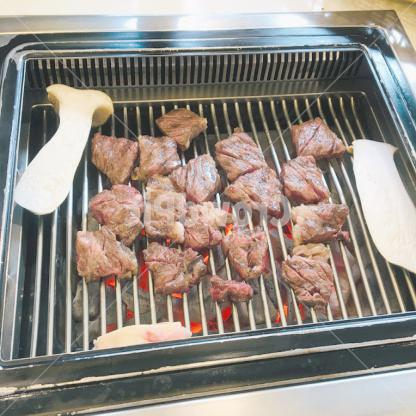Carne: (122, 245, 197, 297), (279, 240, 335, 303), (276, 157, 330, 209), (285, 202, 349, 244), (174, 149, 223, 203), (229, 167, 283, 216), (73, 235, 132, 279), (128, 131, 184, 176), (151, 105, 210, 147), (291, 116, 344, 162), (213, 128, 262, 176), (86, 135, 136, 182)
